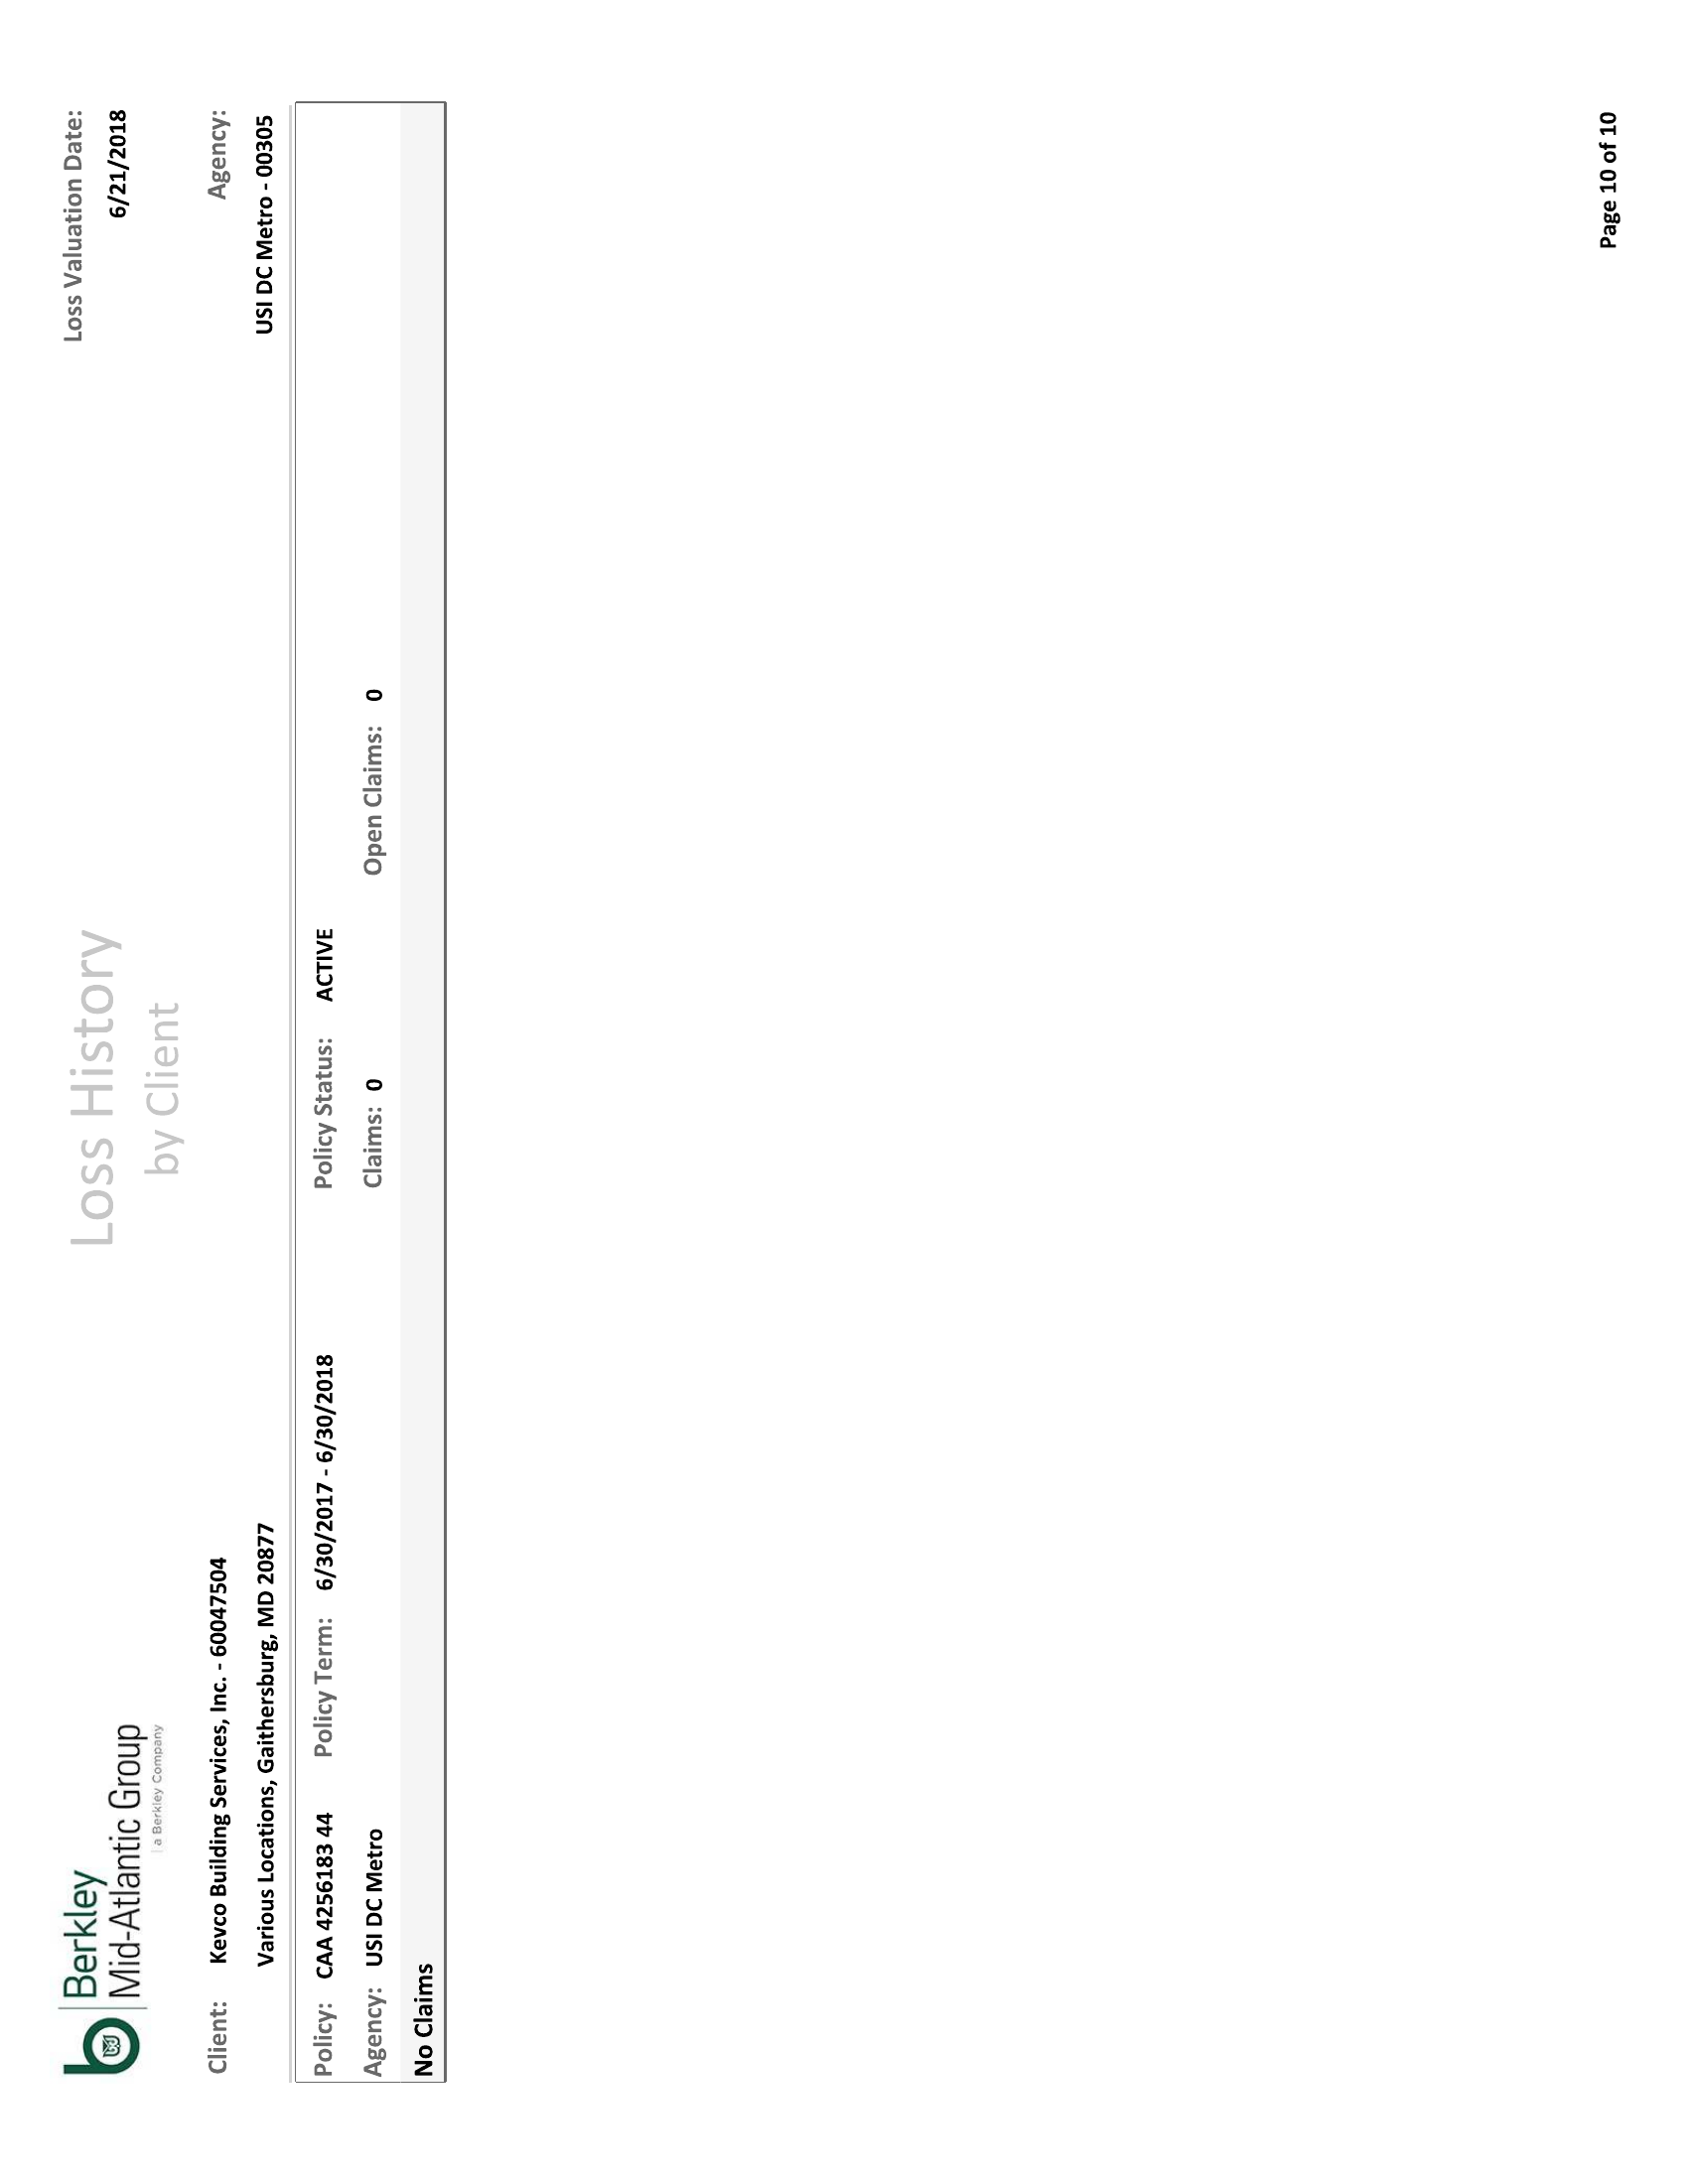No-loss: (278, 92, 500, 2113)
